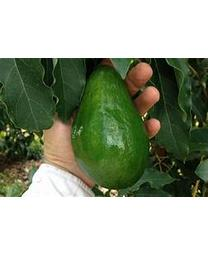avocado: (72, 65, 151, 190)
